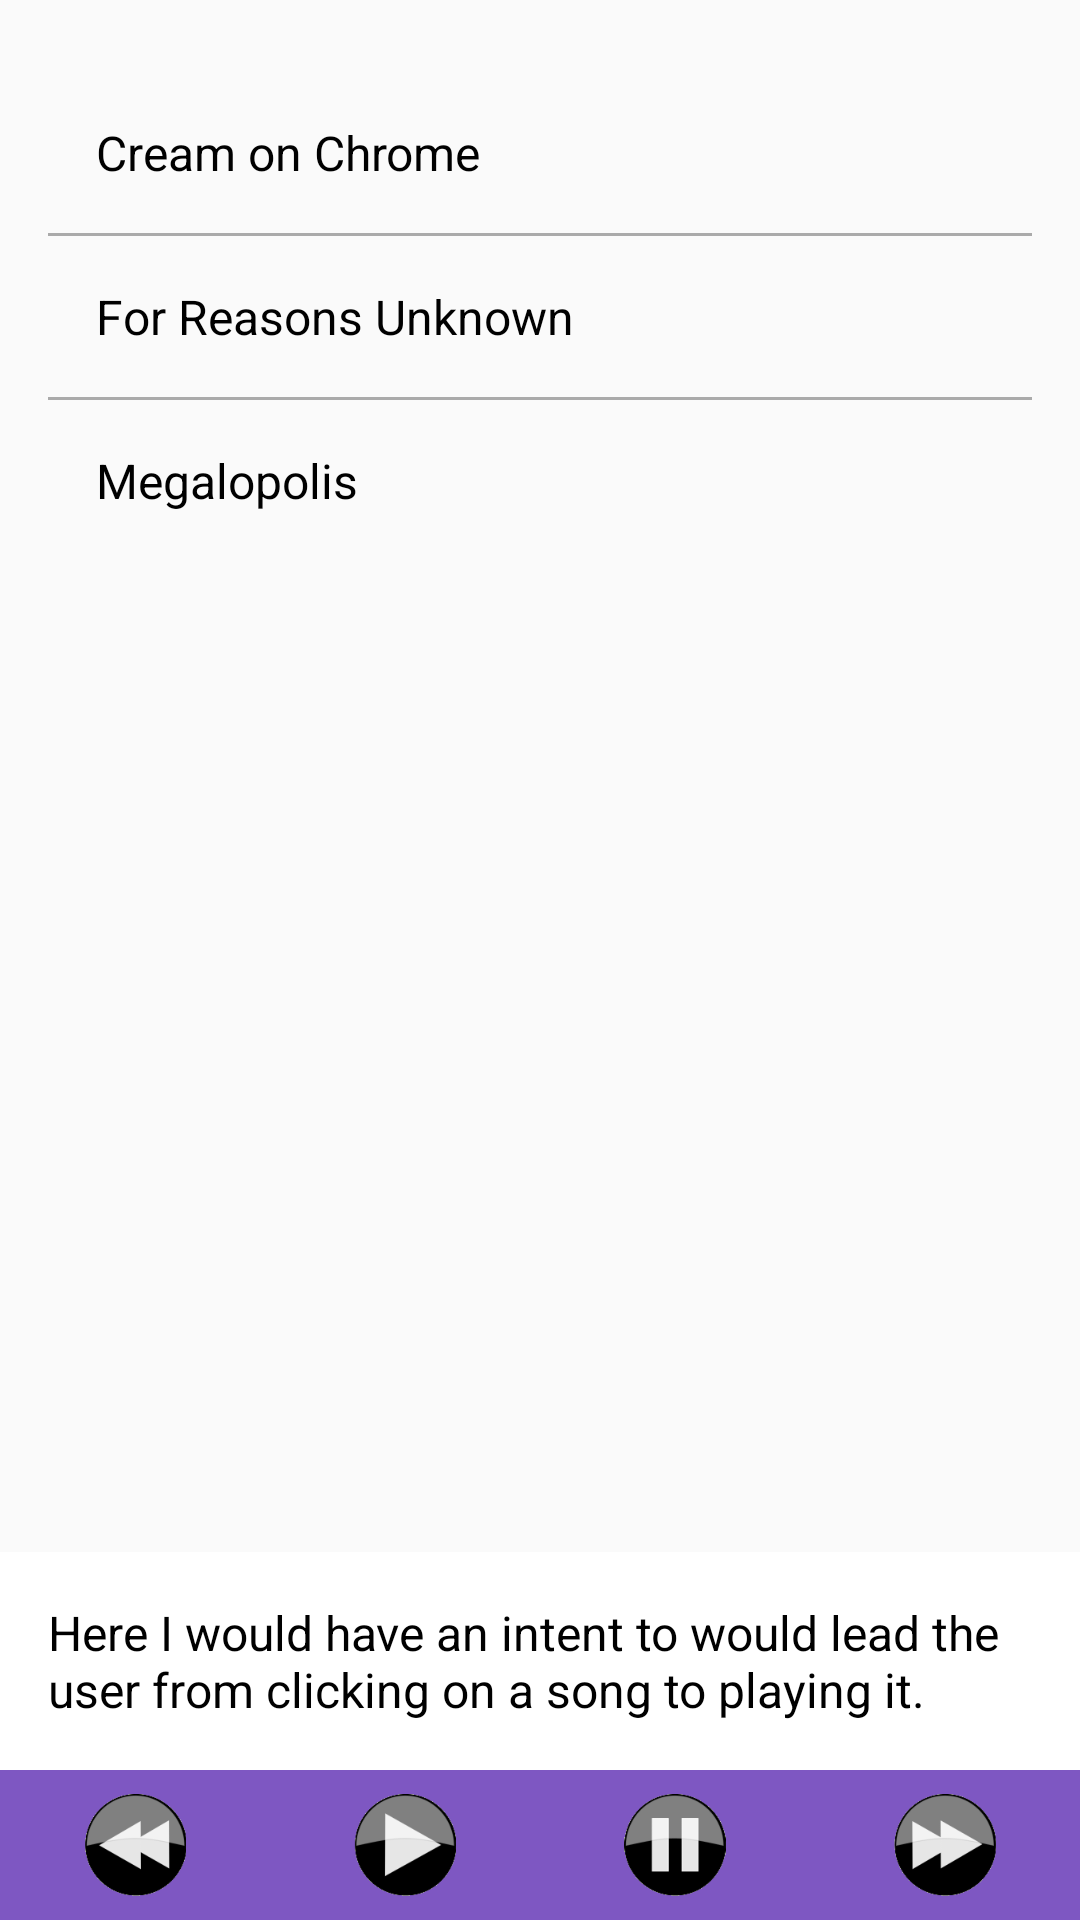

Locate icon controls on the screen. Image size 1080px×1920px, boxes as (x1, y1, x2, y2).
back: (85, 1794, 186, 1896)
forward: (894, 1794, 996, 1896)
pause: (624, 1794, 726, 1896)
